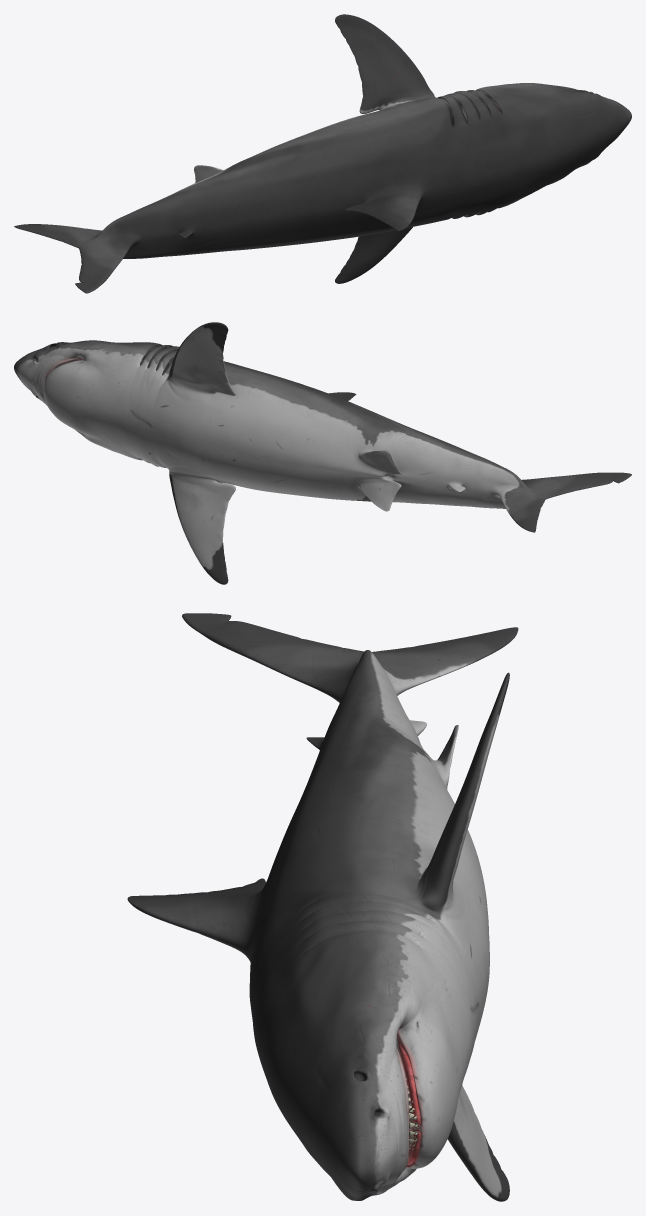
The model's file is gw_shark_correct.glb.
3 renders of one model, top to bottom at view 1: azimuth 30°, elevation 25°; view 2: azimuth 150°, elevation 25°; view 3: azimuth 270°, elevation 25°, orthographic. The views are drawn at different scales.
Parts seen in each view (by area): view 1: Object_59; view 2: Object_59; view 3: Object_59.
Boxes of the visible parts, left/top/right/bottom form: Object_59: left=14, top=14, right=631, bottom=293; Object_59: left=14, top=322, right=631, bottom=584; Object_59: left=127, top=613, right=518, bottom=1201.
Bounding box in the file's own units: 4.54 × 1.97 × 1.34.
2 materials, 1 textured.
